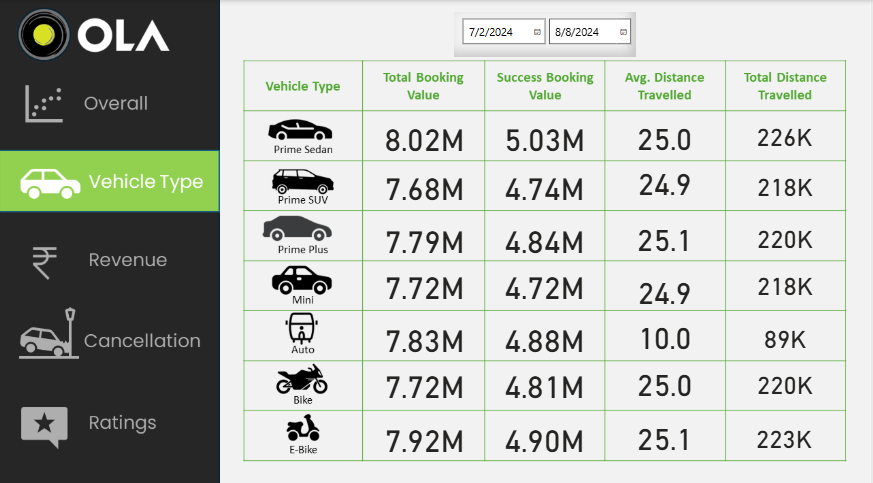

Layout of this report page (visuals, bound fields, positions):
{"tool":"powerbi","page":{"name":"Vehicle Type","canvas":[1280,720],"ordinal":1},"visuals":[{"type":"actionButton","box":[0,315.9,324.7,110.2],"z":0},{"type":"card","fields":{"Values":["Sum(July.Booking_Value)"]},"box":[542.2,166,166,67.6],"z":1000},{"type":"card","fields":{"Values":["Avg(July.Ride_Distance)"]},"box":[894.9,166,166,67.6],"z":2000},{"type":"card","fields":{"Values":["Sum(July.Ride_Distance)"]},"box":[1071.2,164.6,166,69.1],"z":3000},{"type":"card","fields":{"Values":["Sum(July.Booking_Value)"]},"box":[718.5,166,166,67.6],"z":4000},{"type":"card","fields":{"Values":["Sum(July.Booking_Value)"]},"box":[542.2,238,166,67.6],"z":5000},{"type":"card","fields":{"Values":["Sum(July.Booking_Value)"]},"box":[542.2,315.9,166,67.6],"z":6000},{"type":"card","fields":{"Values":["Sum(July.Booking_Value)"]},"box":[542.2,383.5,166,67.6],"z":7000},{"type":"card","fields":{"Values":["Sum(July.Booking_Value)"]},"box":[542.2,461.4,166,67.6],"z":8000},{"type":"card","fields":{"Values":["Sum(July.Booking_Value)"]},"box":[542.2,529,166,67.6],"z":9000},{"type":"card","fields":{"Values":["Sum(July.Booking_Value)"]},"box":[542.2,608.3,166,67.6],"z":10000},{"type":"card","fields":{"Values":["Sum(July.Booking_Value)"]},"box":[718.5,238,166,67.6],"z":11000},{"type":"card","fields":{"Values":["Sum(July.Booking_Value)"]},"box":[718.5,315.9,166,67.6],"z":12000},{"type":"card","fields":{"Values":["Sum(July.Booking_Value)"]},"box":[718.5,383.5,166,67.6],"z":13000},{"type":"card","fields":{"Values":["Sum(July.Booking_Value)"]},"box":[718.5,461.4,166,67.6],"z":14000},{"type":"card","fields":{"Values":["Sum(July.Booking_Value)"]},"box":[718.5,608.3,166,67.6],"z":15000},{"type":"card","fields":{"Values":["Sum(July.Booking_Value)"]},"box":[718.5,529,166,67.6],"z":16000},{"type":"card","fields":{"Values":["Avg(July.Ride_Distance)"]},"box":[895.3,233.5,166.3,67.2],"z":17000},{"type":"card","fields":{"Values":["Avg(July.Ride_Distance)"]},"box":[895.3,315.8,166.3,67.2],"z":18000},{"type":"card","fields":{"Values":["Avg(July.Ride_Distance)"]},"box":[895.3,393.1,166.3,67.2],"z":19000},{"type":"card","fields":{"Values":["Avg(July.Ride_Distance)"]},"box":[895.3,460.3,166.3,67.2],"z":20000},{"type":"card","fields":{"Values":["Avg(July.Ride_Distance)"]},"box":[895.3,529.1,166.3,67.2],"z":21000},{"type":"card","fields":{"Values":["Avg(July.Ride_Distance)"]},"box":[895.3,608.1,166.3,67.2],"z":22000},{"type":"card","fields":{"Values":["Sum(July.Ride_Distance)"]},"box":[1073.4,383,164.6,68.9],"z":23000},{"type":"card","fields":{"Values":["Sum(July.Ride_Distance)"]},"box":[1073.4,461.9,164.6,68.9],"z":24000},{"type":"card","fields":{"Values":["Sum(July.Ride_Distance)"]},"box":[1073.4,529.1,164.6,68.9],"z":25000},{"type":"card","fields":{"Values":["Sum(July.Ride_Distance)"]},"box":[1071.7,608.1,164.6,68.9],"z":26000},{"type":"card","fields":{"Values":["Sum(July.Ride_Distance)"]},"box":[1073.4,314.1,164.6,68.9],"z":27000},{"type":"card","fields":{"Values":["Sum(July.Ride_Distance)"]},"box":[1073.4,238.5,164.6,68.9],"z":28000},{"type":"actionButton","box":[11.8,94,301.2,117.6],"z":29000},{"type":"slicer","title":"Date","fields":{"Values":["July.Date"]},"box":[668.6,17.6,267.4,66.1],"z":29001}]}

Visuals, with their boxes on the page's 1280x720 design canvas (x1, y1, x2, y2). These are canvas units, not pixel positions in the 873x483 screenshot, which may show the page scaled, cropped or inside an application window:
actionButton: rect(0, 316, 325, 426)
card - Sum(July.Booking_Value): rect(542, 166, 708, 234)
card - Avg(July.Ride_Distance): rect(895, 166, 1061, 234)
card - Sum(July.Ride_Distance): rect(1071, 165, 1237, 234)
card - Sum(July.Booking_Value): rect(718, 166, 884, 234)
card - Sum(July.Booking_Value): rect(542, 238, 708, 306)
card - Sum(July.Booking_Value): rect(542, 316, 708, 384)
card - Sum(July.Booking_Value): rect(542, 384, 708, 451)
card - Sum(July.Booking_Value): rect(542, 461, 708, 529)
card - Sum(July.Booking_Value): rect(542, 529, 708, 597)
card - Sum(July.Booking_Value): rect(542, 608, 708, 676)
card - Sum(July.Booking_Value): rect(718, 238, 884, 306)
card - Sum(July.Booking_Value): rect(718, 316, 884, 384)
card - Sum(July.Booking_Value): rect(718, 384, 884, 451)
card - Sum(July.Booking_Value): rect(718, 461, 884, 529)
card - Sum(July.Booking_Value): rect(718, 608, 884, 676)
card - Sum(July.Booking_Value): rect(718, 529, 884, 597)
card - Avg(July.Ride_Distance): rect(895, 234, 1062, 301)
card - Avg(July.Ride_Distance): rect(895, 316, 1062, 383)
card - Avg(July.Ride_Distance): rect(895, 393, 1062, 460)
card - Avg(July.Ride_Distance): rect(895, 460, 1062, 528)
card - Avg(July.Ride_Distance): rect(895, 529, 1062, 596)
card - Avg(July.Ride_Distance): rect(895, 608, 1062, 675)
card - Sum(July.Ride_Distance): rect(1073, 383, 1238, 452)
card - Sum(July.Ride_Distance): rect(1073, 462, 1238, 531)
card - Sum(July.Ride_Distance): rect(1073, 529, 1238, 598)
card - Sum(July.Ride_Distance): rect(1072, 608, 1236, 677)
card - Sum(July.Ride_Distance): rect(1073, 314, 1238, 383)
card - Sum(July.Ride_Distance): rect(1073, 238, 1238, 307)
actionButton: rect(12, 94, 313, 212)
"Date" slicer: rect(669, 18, 936, 84)
